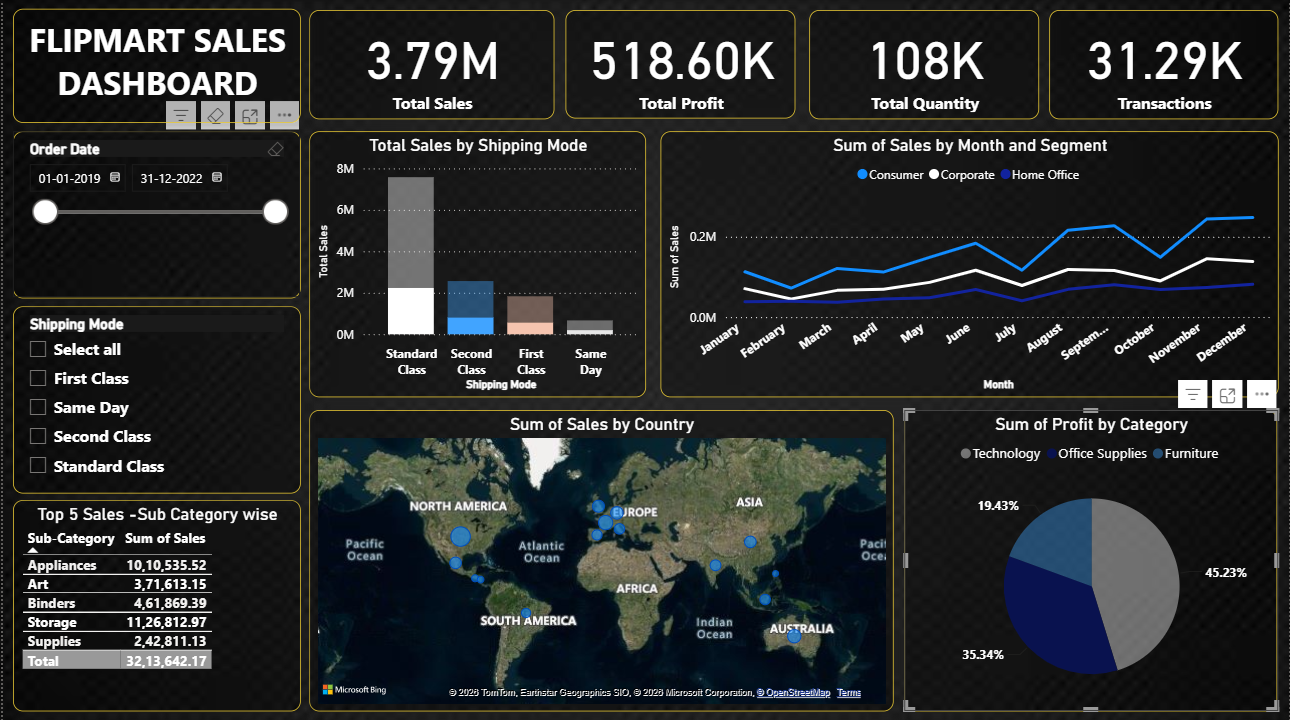

The page's visual inventory and layout, read from the dashboard file:
{"tool":"powerbi","page":{"name":"Page 1","canvas":[1280,720],"ordinal":0},"visuals":[{"type":"card","fields":{"Values":["Sum(Sales.Sales)"]},"box":[305,10,243.8,108.8],"z":0},{"type":"card","fields":{"Values":["Sum(Sales.Profit)"]},"box":[560,10,229.2,108.3],"z":1000},{"type":"card","fields":{"Values":["Sum(Sales.Quantity)"]},"box":[802,9.6,229.1,108.5],"z":2000},{"type":"card","fields":{"Values":["CountNonNull(Sales.Order ID)"]},"box":[1040.8,9.6,227.9,108.5],"z":3000},{"type":"clusteredColumnChart","title":"Total Sales by Shipping Mode","fields":{"Y":["Sum(Sales.Sales)"],"Category":["Sales.Shipping Mode"]},"box":[305,130,335,265],"z":4000},{"type":"pieChart","fields":{"Category":["Sales.Category"],"Y":["Sum(Sales.Profit)"]},"box":[897.3,407.6,371.5,300.3],"z":5000},{"type":"lineChart","fields":{"Y":["Sum(Sales.Sales)"],"Category":["Sales.Order Date.Variation.Date Hierarchy.Month"],"Series":["Sales.Segment"]},"box":[653.8,130,615,265],"z":6000},{"type":"map","fields":{"Size":["Sum(Sales.Sales)"],"Category":["Sales.Country"]},"box":[305,407.5,581.2,300],"z":7000},{"type":"tableEx","title":"Top 5 Sales -Sub Category wise","fields":{"Values":["Sales.Sub-Category","Sum(Sales.Sales)"]},"box":[10,497.5,286.2,210],"z":8000},{"type":"slicer","fields":{"Values":["Sales.Shipping Mode"]},"box":[10,304.8,286.1,186.6],"z":9000},{"type":"slicer","fields":{"Values":["Sales.Order Date"]},"box":[10,130,286.2,166.2],"z":10000},{"type":"textbox","box":[10,8.8,286.2,113.8],"z":11000}]}

Visuals, with their boxes in screenshot pixels (x1, y1, x2, y2), scaled from the page's 1280x720 canvas onto the 1290x720 screenshot:
card - Sum(Sales.Sales): bbox(307, 10, 553, 119)
card - Sum(Sales.Profit): bbox(564, 10, 795, 118)
card - Sum(Sales.Quantity): bbox(808, 10, 1039, 118)
card - CountNonNull(Sales.Order ID): bbox(1049, 10, 1279, 118)
"Total Sales by Shipping Mode" clusteredColumnChart: bbox(307, 130, 645, 395)
pieChart - Sales.Category x Sum(Sales.Profit): bbox(904, 408, 1279, 708)
lineChart - Sum(Sales.Sales) x Sales.Order Date.Variation.Date Hierarchy.Month: bbox(659, 130, 1279, 395)
map - Sum(Sales.Sales) x Sales.Country: bbox(307, 408, 893, 708)
"Top 5 Sales -Sub Category wise" tableEx: bbox(10, 498, 299, 708)
slicer - Sales.Shipping Mode: bbox(10, 305, 298, 491)
slicer - Sales.Order Date: bbox(10, 130, 299, 296)
textbox: bbox(10, 9, 299, 123)
